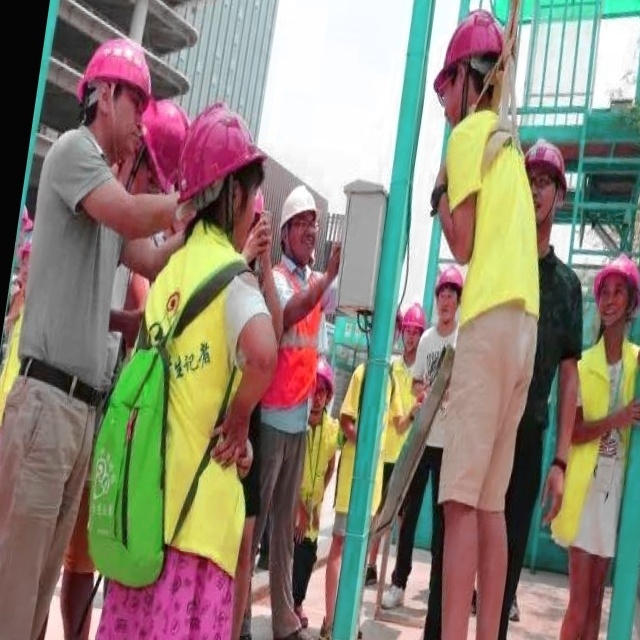Con_Casco: (75, 33, 157, 160), (588, 251, 640, 345)
